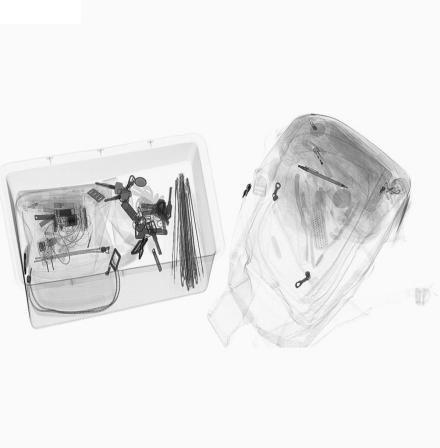Lighter: (312, 146, 334, 180)
